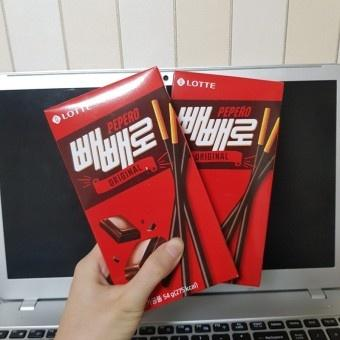snack: (42, 67, 242, 310), (172, 66, 285, 289)
